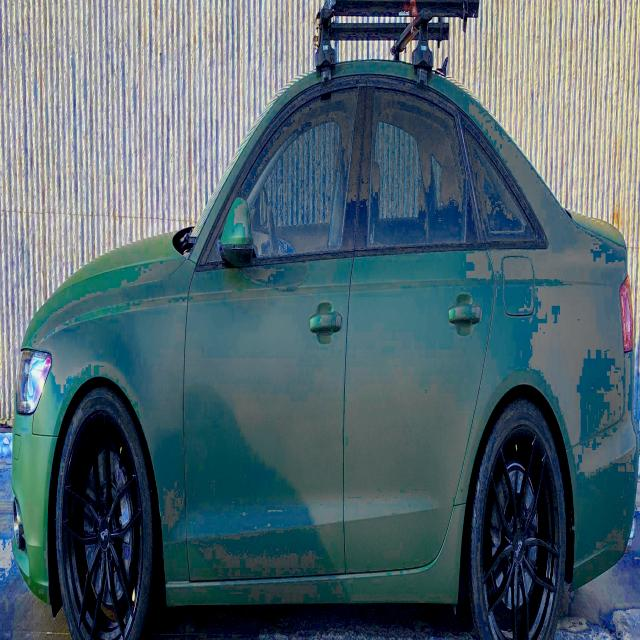green: (10, 0, 638, 640)
